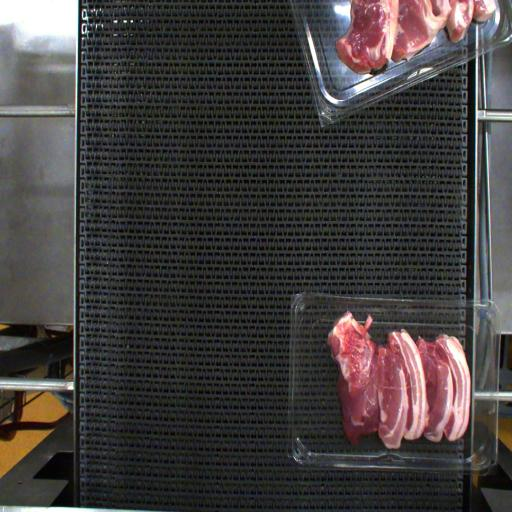twisted-meat: (329, 320, 384, 443)
